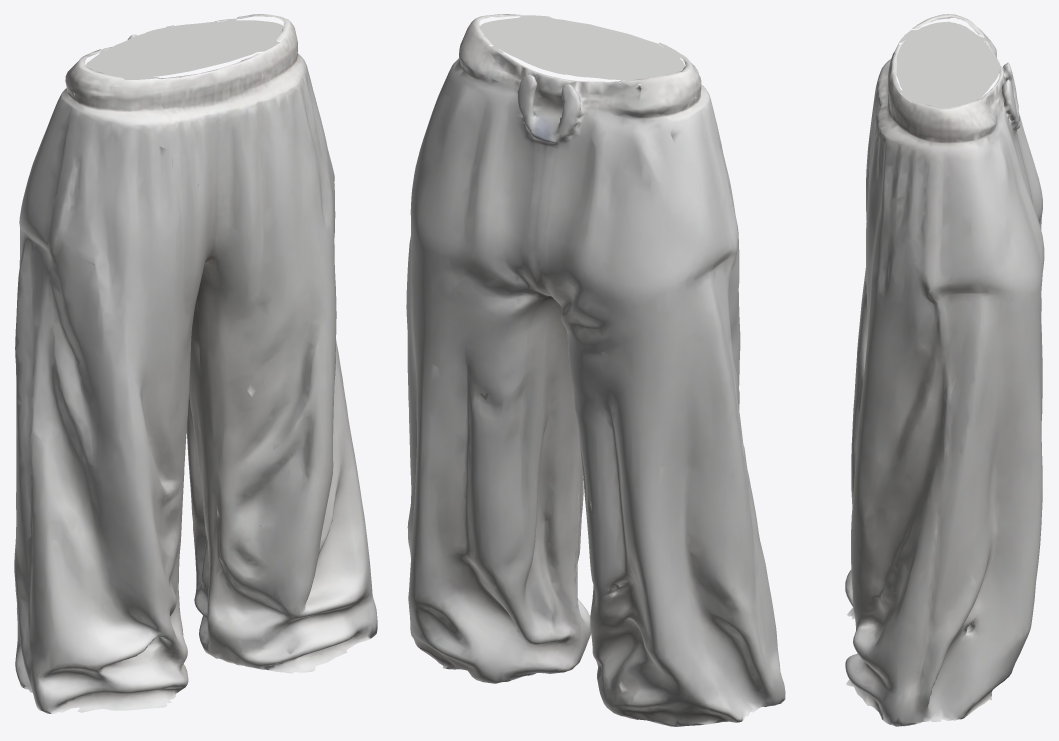
The model's file is jogger.glb.
3 views of the same model, side by side, from view 1: azimuth 30°, elevation 25°; view 2: azimuth 150°, elevation 25°; view 3: azimuth 270°, elevation 25° (orthographic). The views are drawn at different scales.
Visible parts, largest first — view 1: geometry_0; view 2: geometry_0; view 3: geometry_0.
Part boxes in pixels (x1,y1,x2,y2): geometry_0: (14, 14, 377, 713); geometry_0: (406, 14, 785, 726); geometry_0: (845, 14, 1044, 726).
Size of the model in its own units: 0.5464 by 0.9372 by 0.3331.
Materials: 1 (1 with a texture image).
